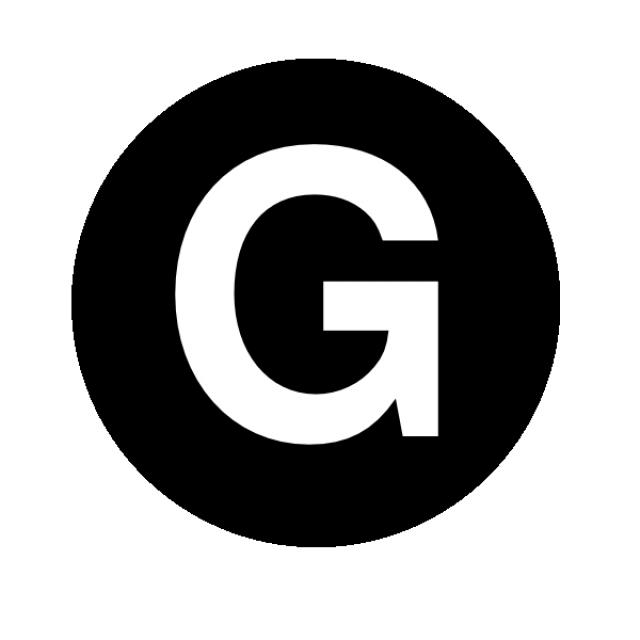G: (129, 115, 481, 491)
